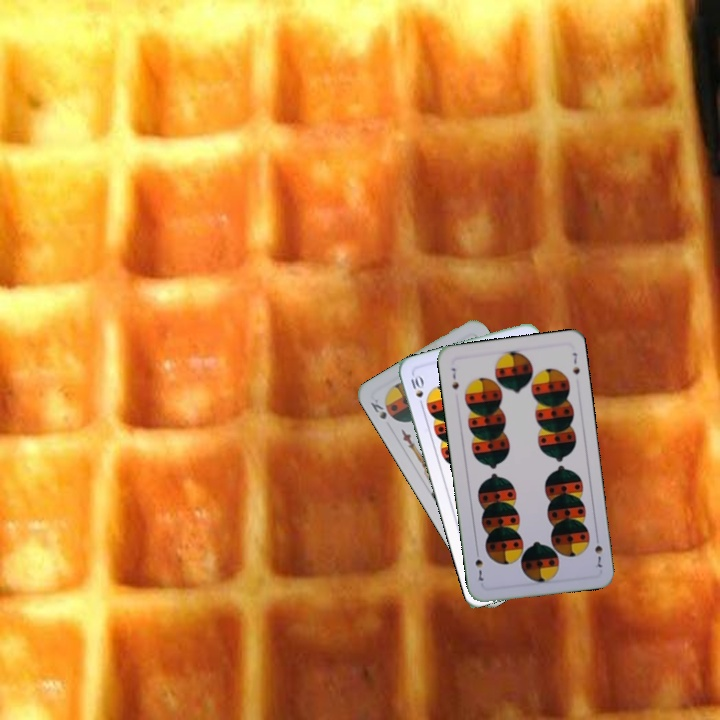S10: (407, 371, 426, 411)
S7: (590, 531, 605, 570), (447, 364, 461, 392)
SK: (366, 394, 389, 422)
